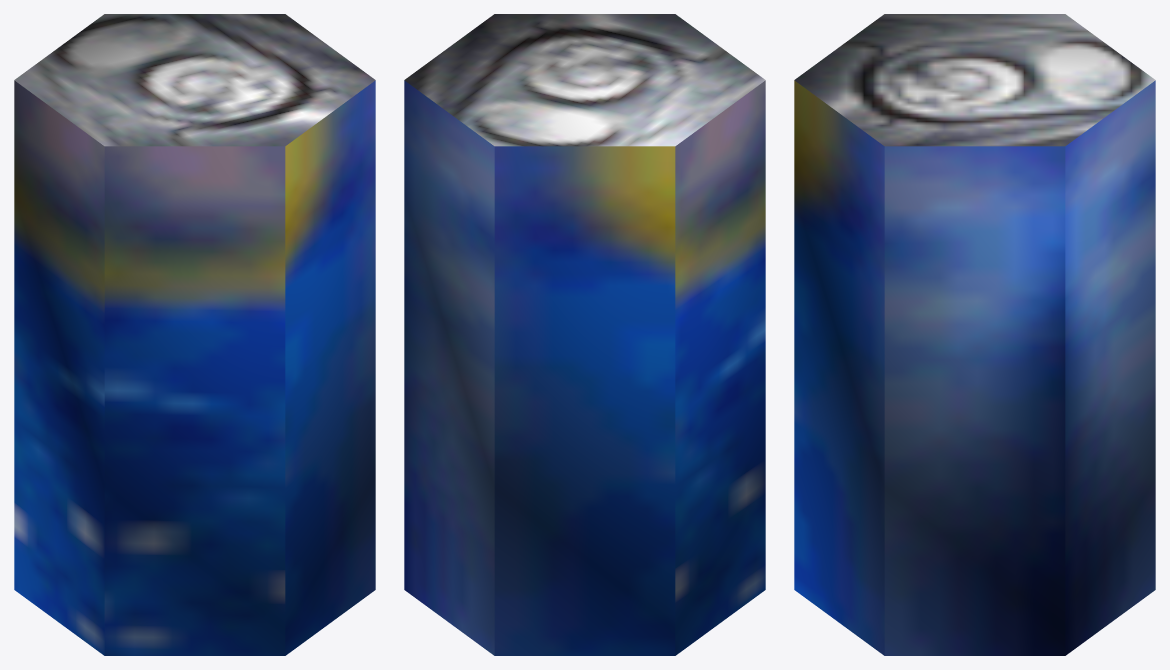
Rendered from TrashObj2.fbx.
The picture shows the model from 3 angles, left to right: view 1: azimuth 30°, elevation 25°; view 2: azimuth 150°, elevation 25°; view 3: azimuth 270°, elevation 25°; orthographic projection.
Parts seen in each view (by area): view 1: Can_3; view 2: Can_3; view 3: Can_3.
Boxes of the visible parts, box(x1,y1,x2,y2) form: Can_3: box(14, 14, 375, 655); Can_3: box(404, 14, 765, 655); Can_3: box(794, 14, 1155, 655).
Size of the model in its own units: 11.14 by 20 by 12.87.
